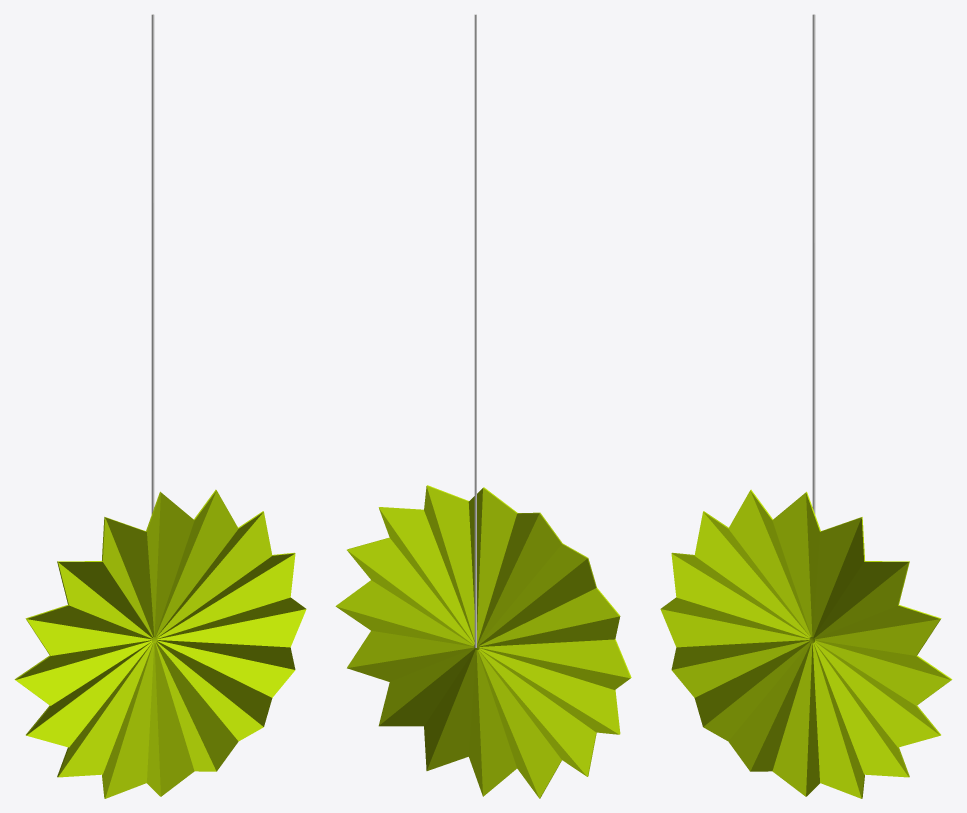
The model's file is PartyHangings01B_5.FBX.
3 views of the same model, side by side, from view 1: azimuth 30°, elevation 25°; view 2: azimuth 150°, elevation 25°; view 3: azimuth 330°, elevation 25° (orthographic).
Parts seen in each view (by area): view 1: PartyHangings01B_5; view 2: PartyHangings01B_5; view 3: PartyHangings01B_5.
Part boxes in pixels (left/top/right/bottom): PartyHangings01B_5: left=14, top=14, right=306, bottom=798; PartyHangings01B_5: left=335, top=14, right=631, bottom=798; PartyHangings01B_5: left=660, top=14, right=952, bottom=798.
Size of what is drawn, in the model's own units: 0.2837 by 0.7226 by 0.031.
